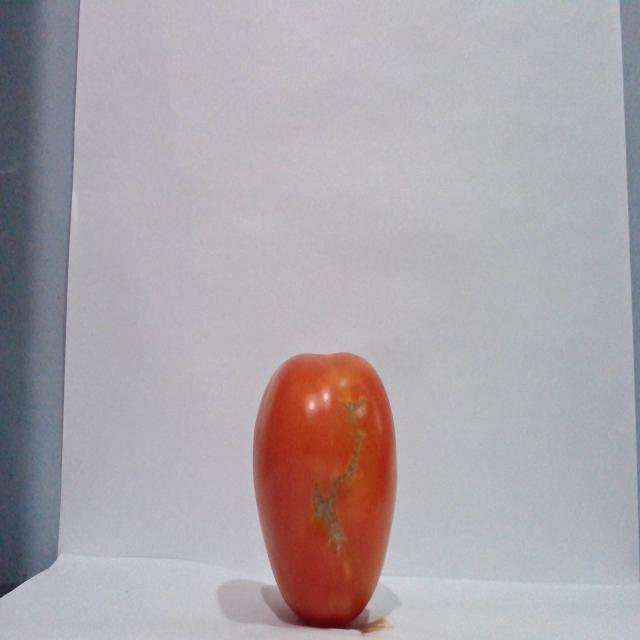Red: (250, 350, 398, 627)
